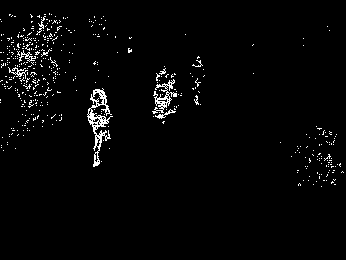person: (82, 88, 114, 171)
